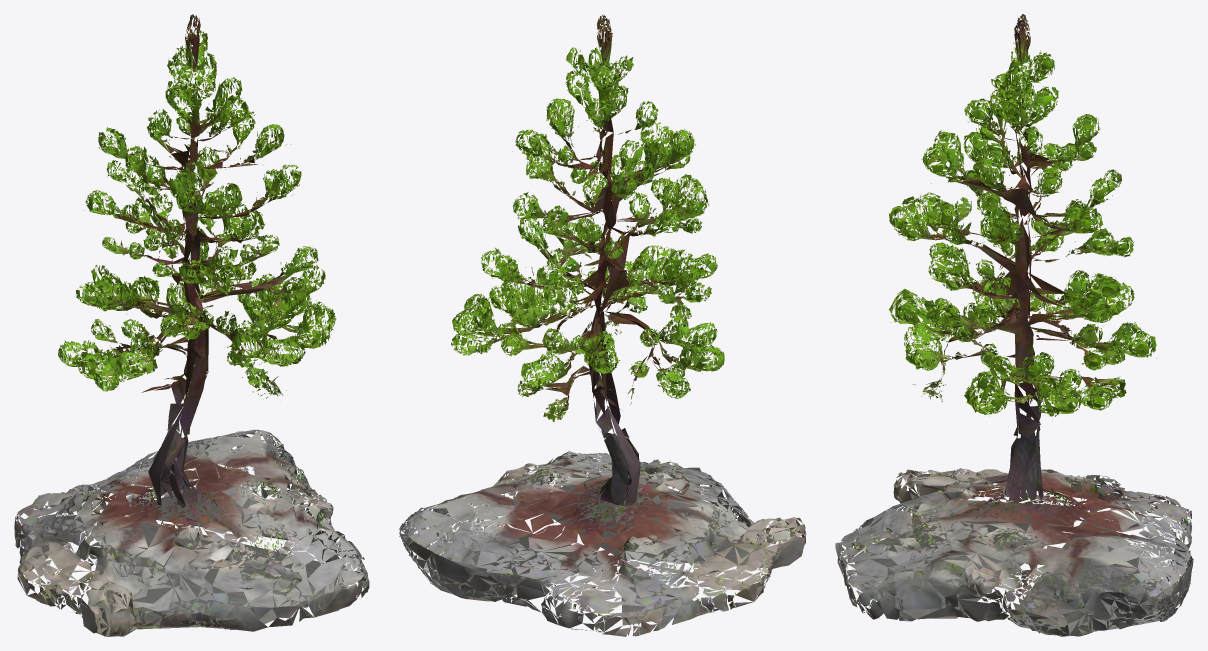
File: pine_stunted.glb
3 renders of one model, left to right at view 1: azimuth 30°, elevation 25°; view 2: azimuth 150°, elevation 25°; view 3: azimuth 270°, elevation 25°, orthographic. The views are drawn at different scales.
Parts seen in each view (by area): view 1: Mesh_0; view 2: Mesh_0; view 3: Mesh_0.
Boxes of the visible parts, x1=… form: Mesh_0: x1=14, y1=14, x2=369, y2=636; Mesh_0: x1=399, y1=14, x2=806, y2=636; Mesh_0: x1=835, y1=14, x2=1193, y2=636.
Bounding box in the file's own units: 0.5805 × 0.9958 × 0.5791.
1 material, 1 textured.
